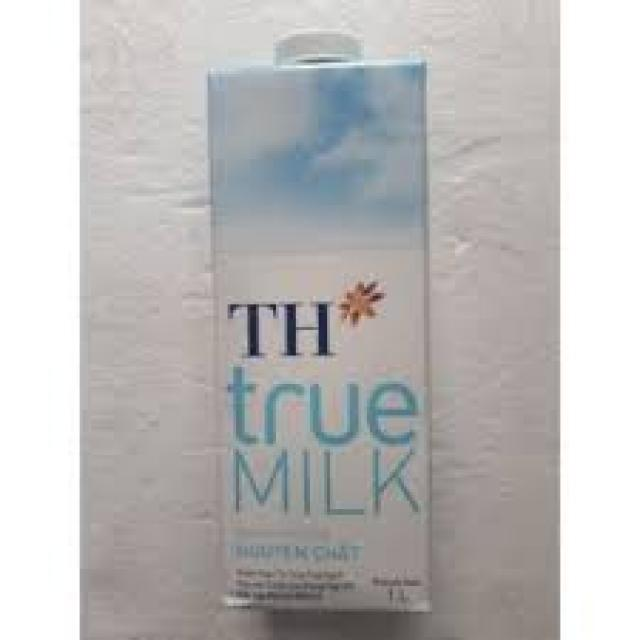non_white_jug: (182, 7, 449, 622)
